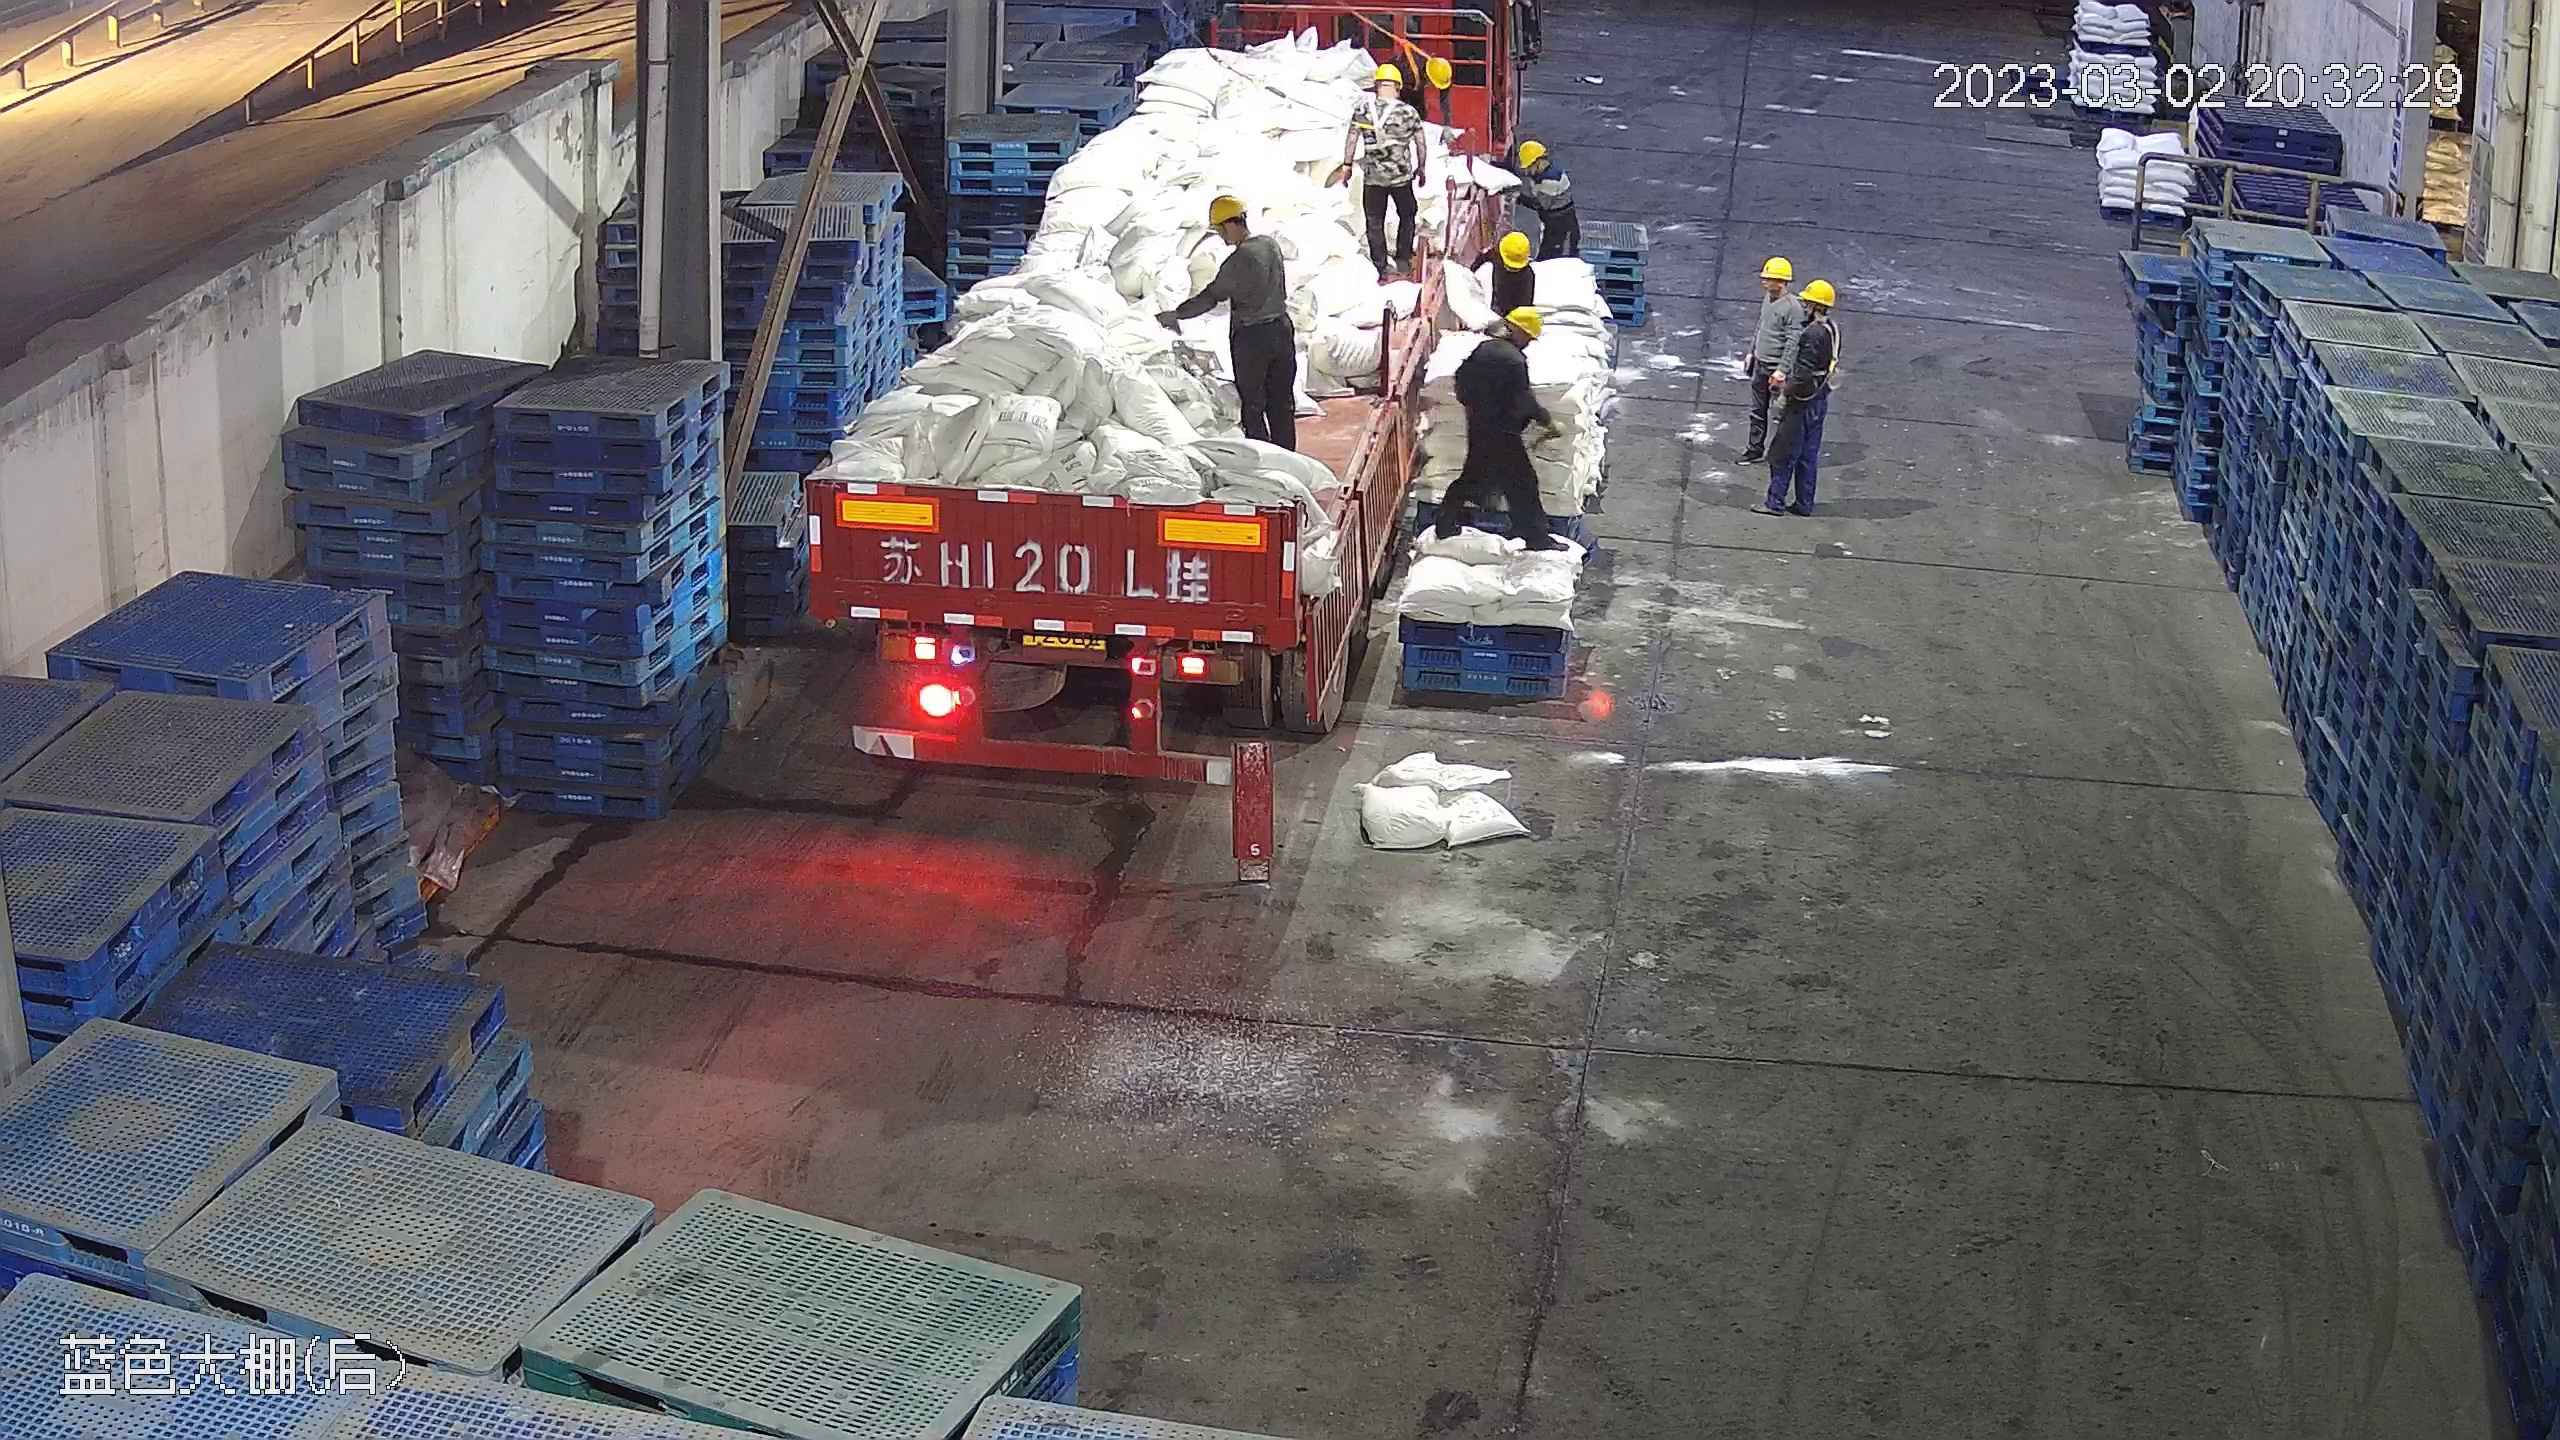belt: (1231, 232, 1299, 313), (1354, 103, 1410, 157), (1793, 320, 1839, 373), (1392, 34, 1431, 88)
head: (1459, 301, 1546, 382), (1202, 192, 1283, 276), (1355, 62, 1425, 124), (1507, 138, 1573, 201), (1790, 277, 1841, 352), (1751, 254, 1795, 326), (1400, 43, 1452, 93)
helmet: (1500, 301, 1545, 340), (1203, 191, 1248, 229), (1495, 227, 1534, 267), (1799, 278, 1837, 304), (1515, 137, 1548, 168), (1422, 54, 1453, 83), (1758, 253, 1791, 277), (1369, 61, 1402, 85)
people: (1150, 190, 1304, 445), (1435, 296, 1579, 544), (1345, 60, 1429, 276), (1768, 279, 1842, 515), (1740, 248, 1800, 467), (1508, 135, 1588, 263)
truck: (796, 3, 1497, 773)
